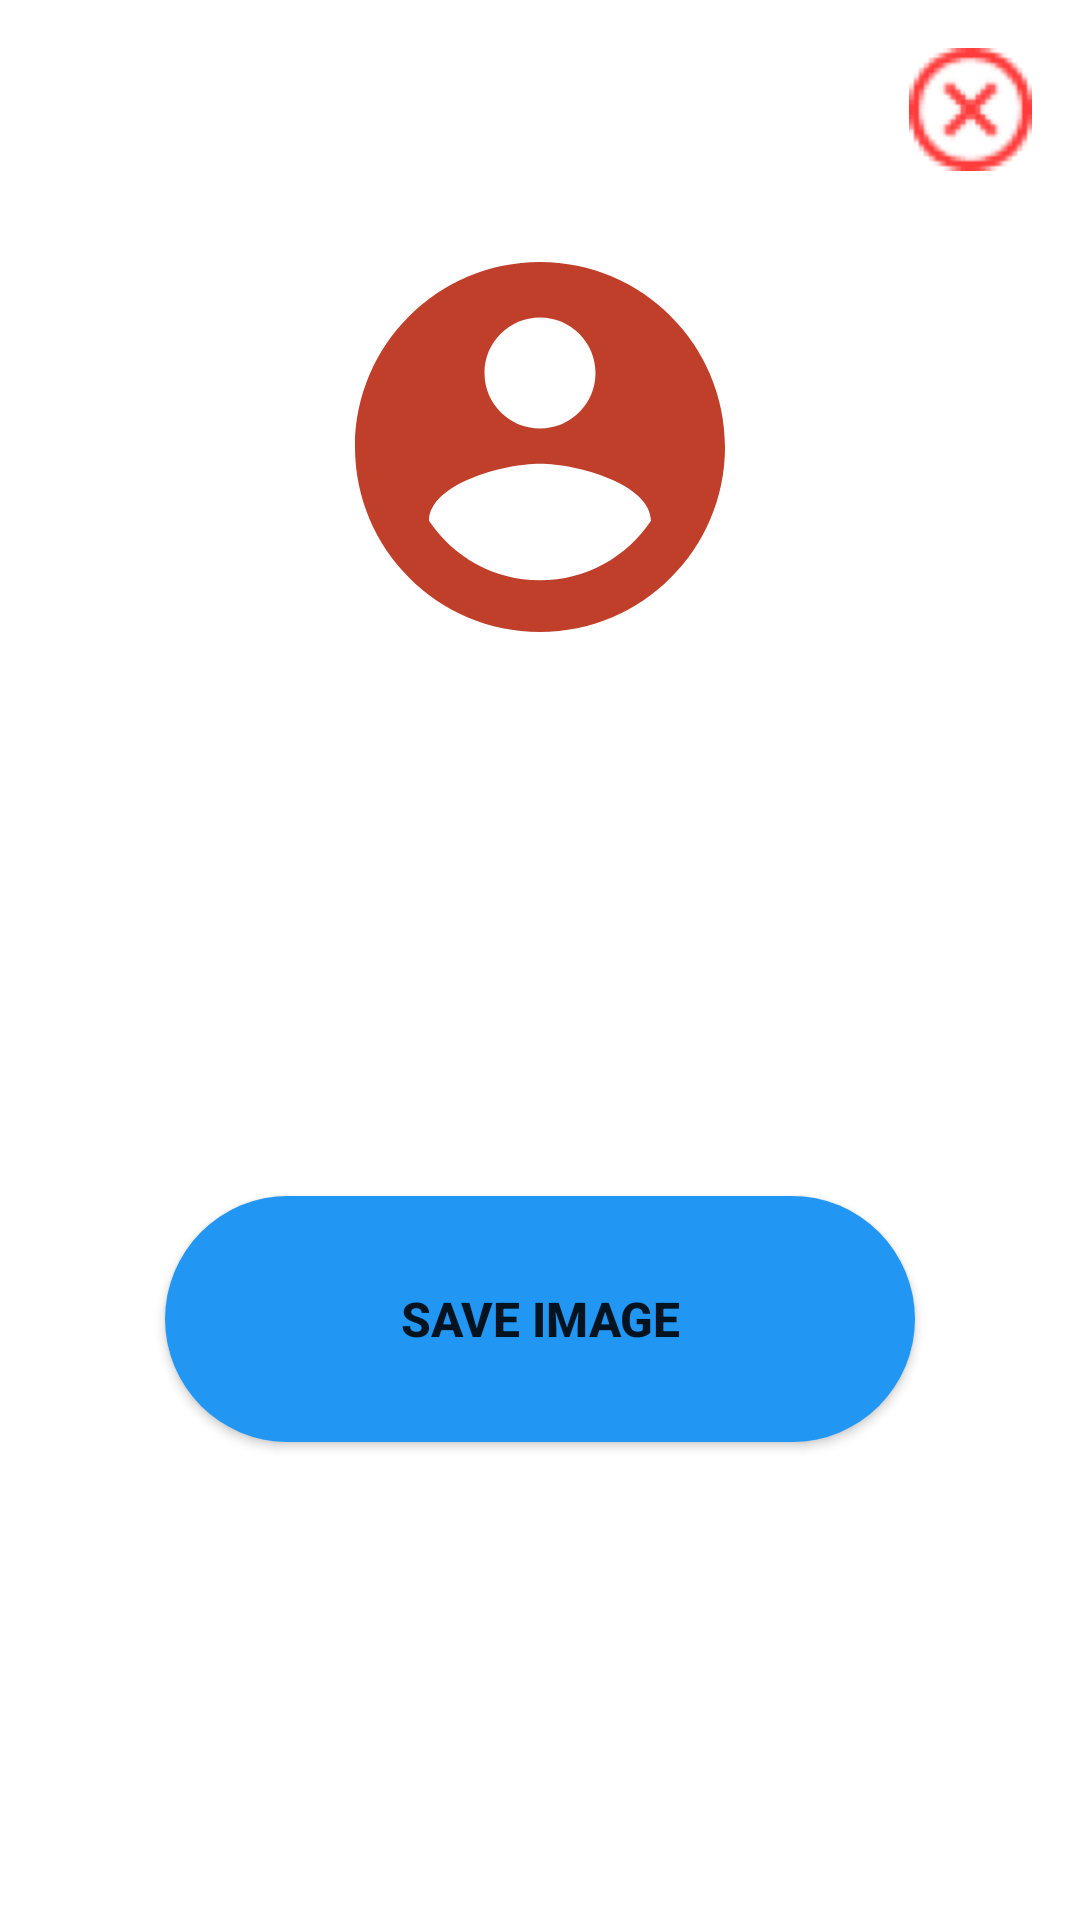

Screen size 1080 × 1920. Icon name, then its box in pixels as (x1=x1, y1=y1, x2=x2, y2=y2):
xbutton: (x1=909, y1=48, x2=1032, y2=171)
